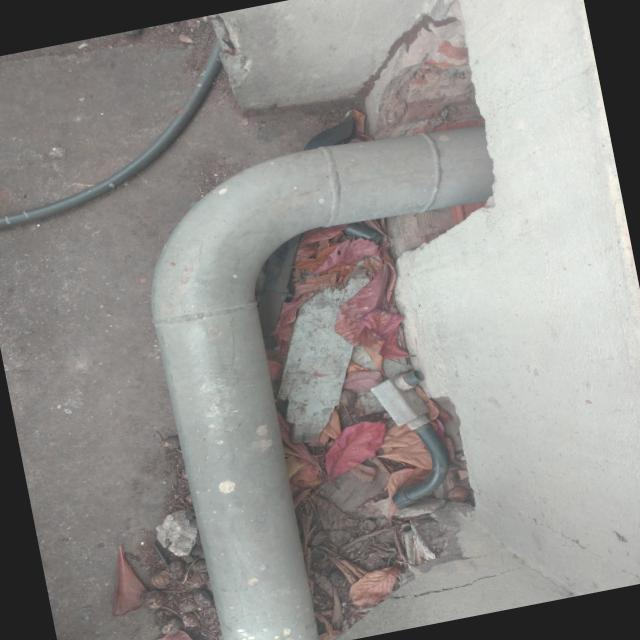gas: (150, 300, 319, 640), (266, 118, 492, 243)
